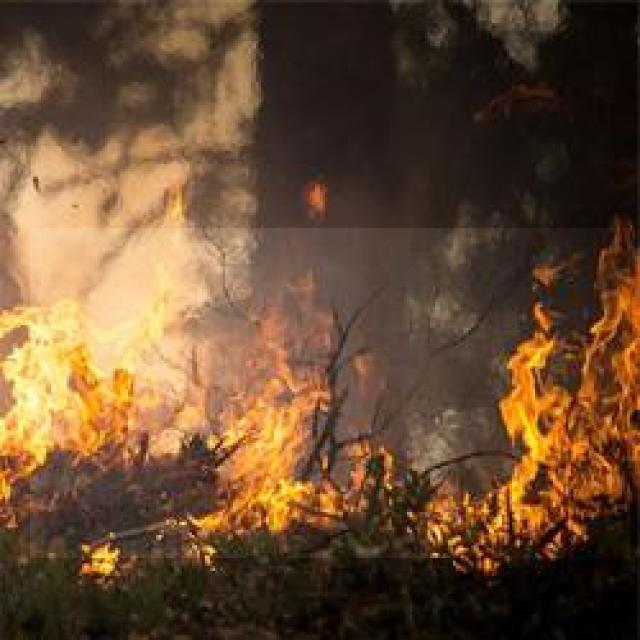Fire: (30, 228, 630, 558)
